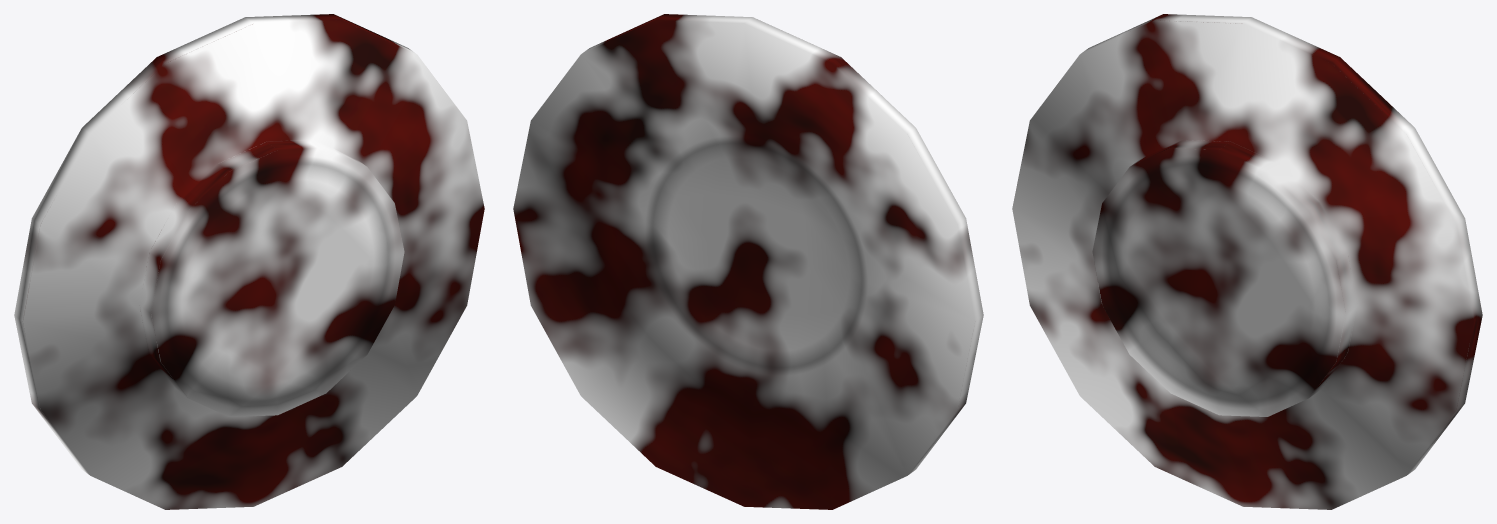
Rendered from DirtyPlate.fbx.
The picture shows the model from 3 angles, left to right: view 1: azimuth 30°, elevation 25°; view 2: azimuth 150°, elevation 25°; view 3: azimuth 330°, elevation 25°; orthographic projection.
Visible parts, largest first — view 1: Platedirty; view 2: Platedirty; view 3: Platedirty.
Boxes of the visible parts, x1,y1,x2,y2 form: Platedirty: (14,14,484,509); Platedirty: (513,14,983,509); Platedirty: (1012,14,1482,509).
Size of the model in its own units: 1.01 by 1.01 by 0.124.
Materials: 1 (1 with a texture image).
